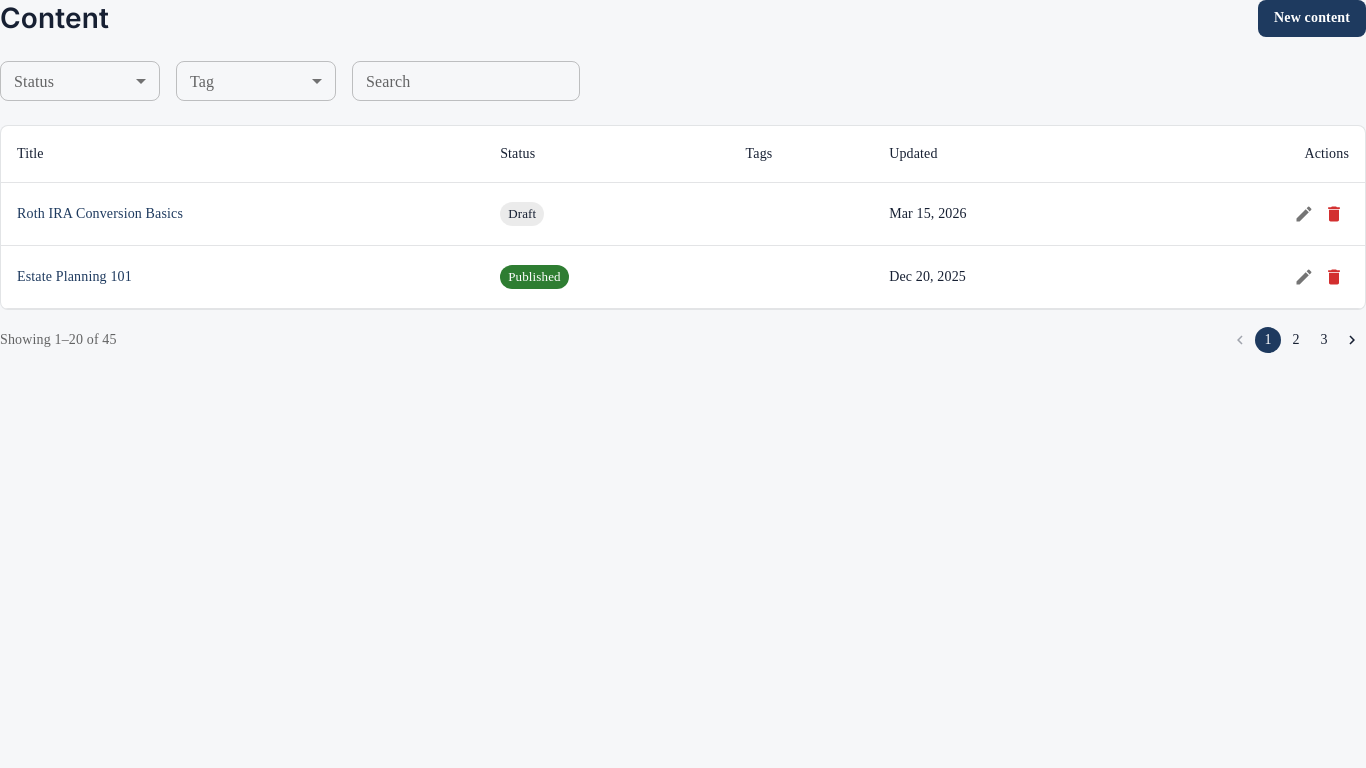
Test case: ContentListScreen pagination › deleting the sole row on page 2 clamps the URL back to page 1 automatically (WR-60)
Check: the row "Roth IRA Conversion Basics Draft Mar 15, 2026" is shown, box [1,182,1365,245]
Click the button named "Go to next page": point(1352, 340) [1339,327,1365,353]
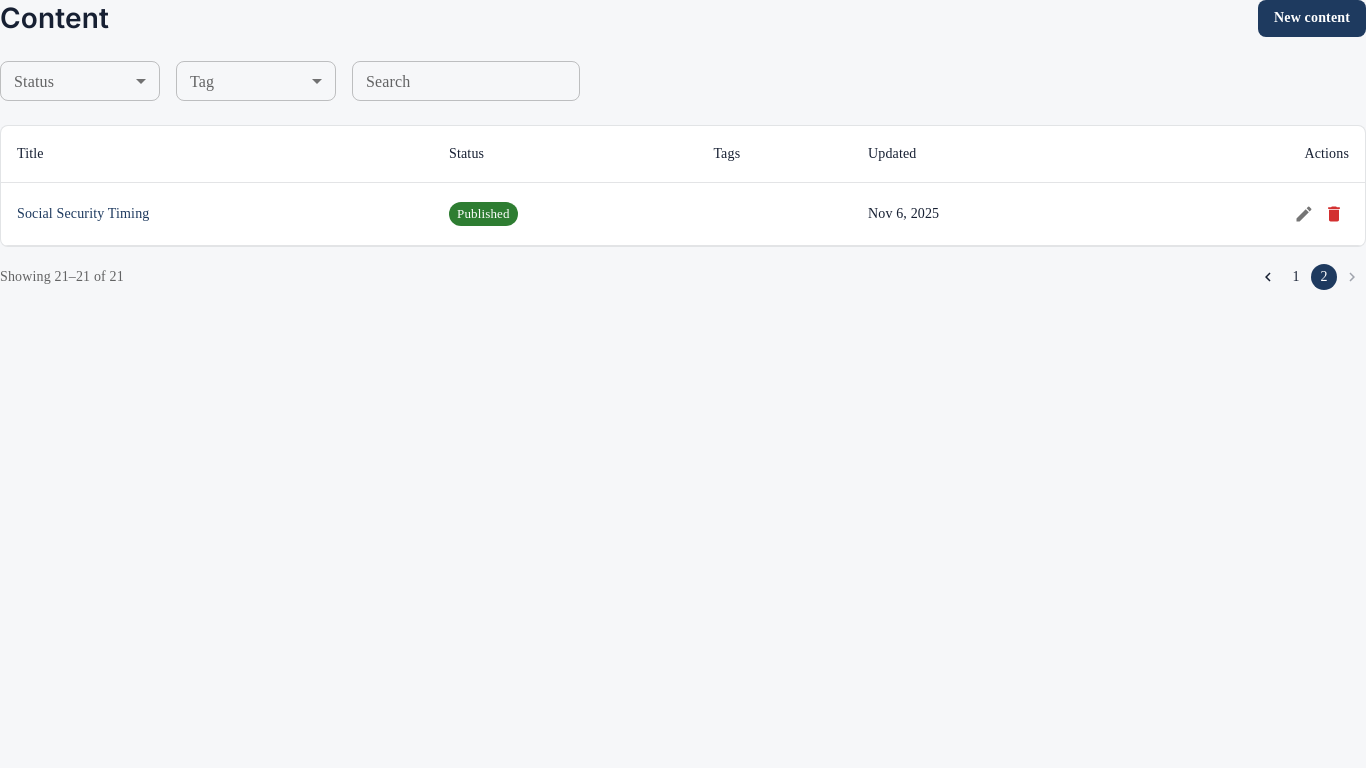
Check: the row "Social Security Timing Published Nov 6, 2025" is shown, box [1,182,1365,245]
Click the button named "Delete Social Security Timing": point(1334, 214) [1319,198,1349,228]
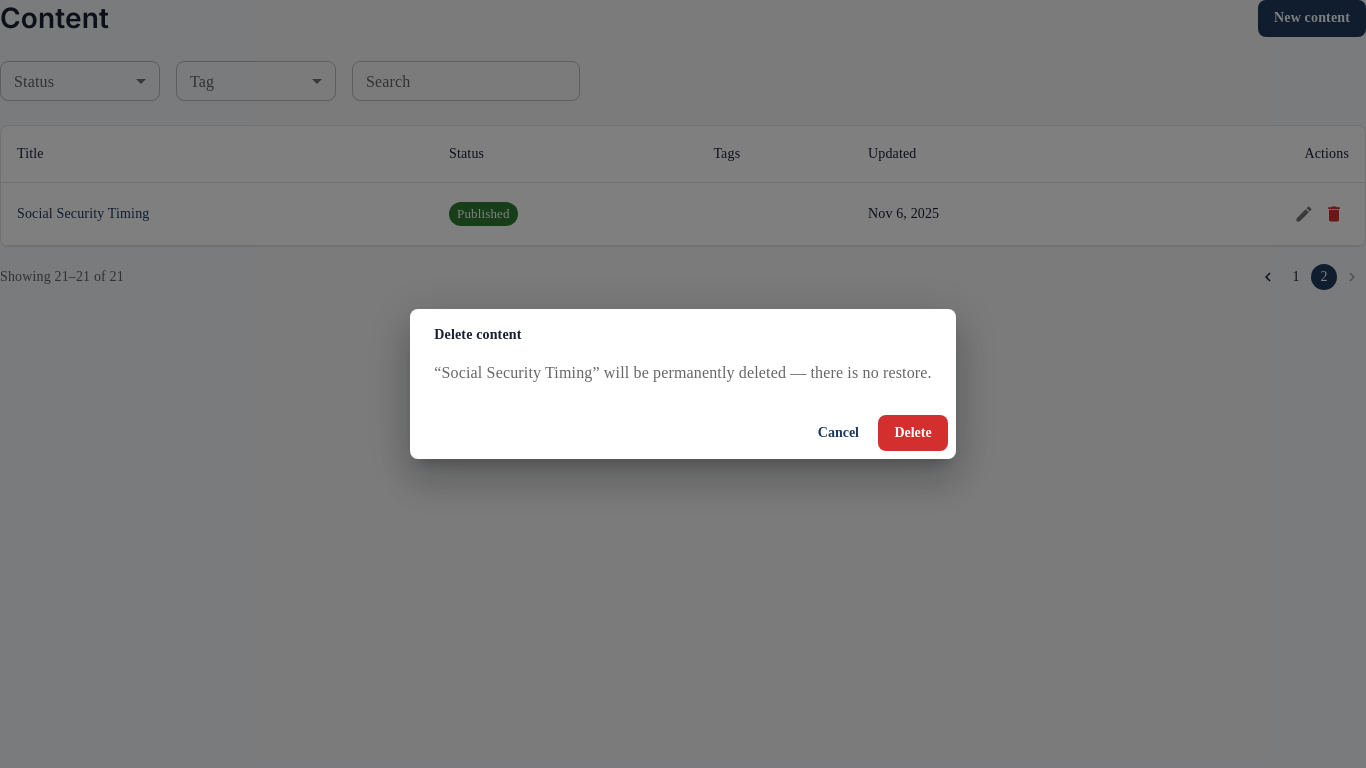
Click the button "Delete": point(913, 433) [878,415,948,451]
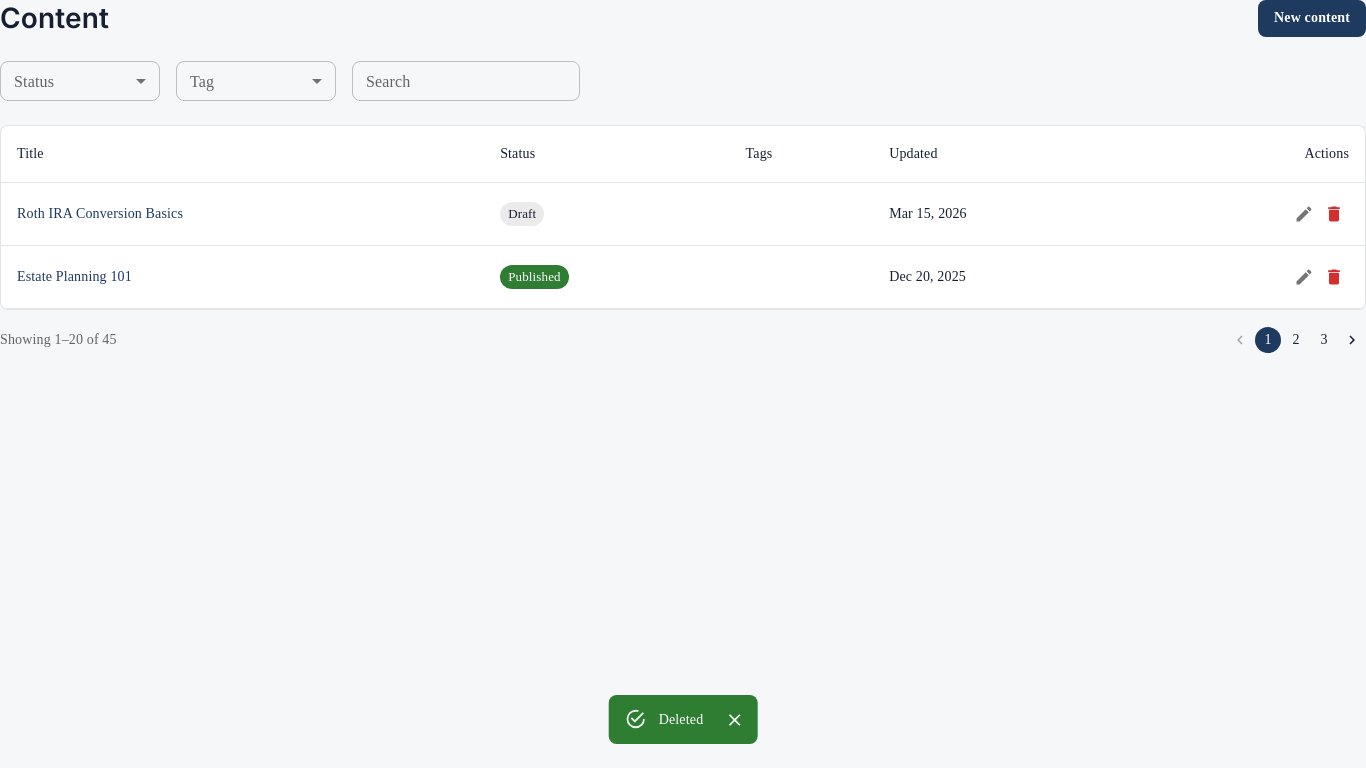
Check: the message reads "Deleted", box [659,712,703,727]
Check: the row "Roth IRA Conversion Basics Draft Mar 15, 2026" is shown, box [1,182,1365,245]
